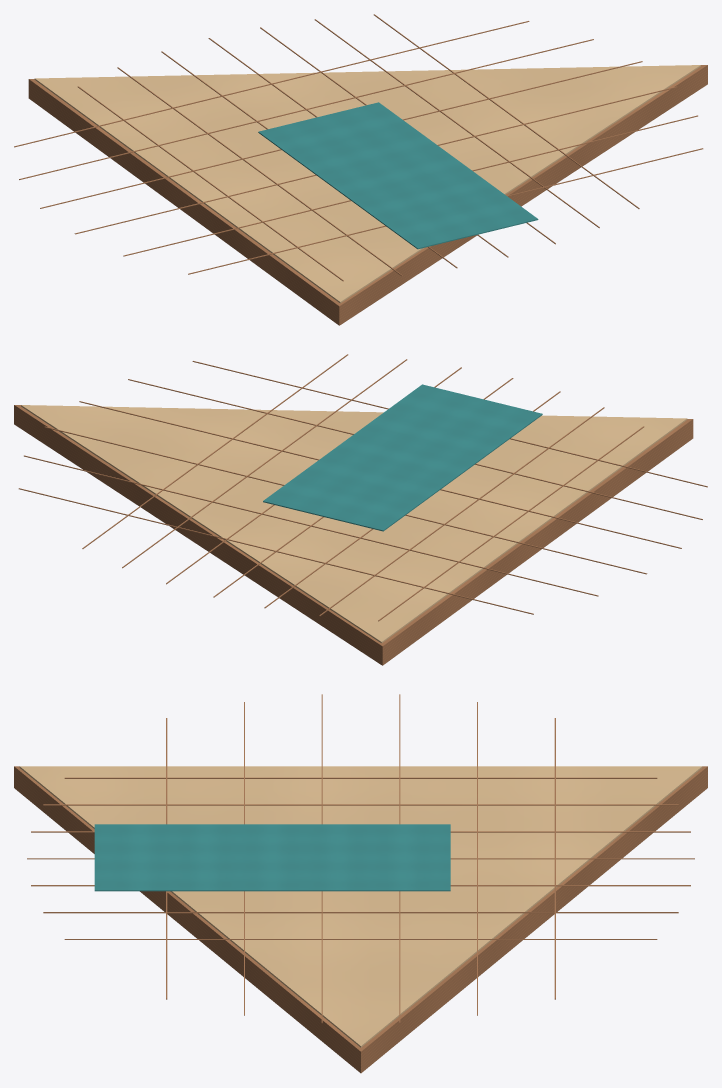
Rendered from atlas100-s096-a07.lod2.glb.
3 renders of one model, top to bottom at view 1: azimuth 30°, elevation 25°; view 2: azimuth 150°, elevation 25°; view 3: azimuth 270°, elevation 25°, orthographic. The views are drawn at different scales.
Visible parts, largest first — view 1: atlas100-s096-a07:part-001, atlas100-s096-a07:part-021, atlas100-s096-a07:part-000, atlas100-s096-a07:part-015, atlas100-s096-a07:part-014, atlas100-s096-a07:part-017, atlas100-s096-a07:part-016, atlas100-s096-a07:part-018, atlas100-s096-a07:part-019, atlas100-s096-a07:part-005, atlas100-s096-a07:part-009, atlas100-s096-a07:part-004 (+1 smaller); view 2: atlas100-s096-a07:part-001, atlas100-s096-a07:part-021, atlas100-s096-a07:part-000, atlas100-s096-a07:part-015, atlas100-s096-a07:part-014, atlas100-s096-a07:part-016, atlas100-s096-a07:part-017, atlas100-s096-a07:part-018, atlas100-s096-a07:part-019, atlas100-s096-a07:part-005, atlas100-s096-a07:part-009, atlas100-s096-a07:part-004 (+1 smaller); view 3: atlas100-s096-a07:part-001, atlas100-s096-a07:part-021, atlas100-s096-a07:part-000, atlas100-s096-a07:part-005, atlas100-s096-a07:part-009, atlas100-s096-a07:part-004, atlas100-s096-a07:part-007, atlas100-s096-a07:part-006, atlas100-s096-a07:part-008, atlas100-s096-a07:part-010.
Boxes of the visible parts, x1,y1,x2,y2 form: atlas100-s096-a07:part-001: (34,65,700,303); atlas100-s096-a07:part-021: (258,102,538,249); atlas100-s096-a07:part-000: (28,65,707,325); atlas100-s096-a07:part-015: (19,39,593,179); atlas100-s096-a07:part-014: (14,21,529,147); atlas100-s096-a07:part-017: (74,86,677,234); atlas100-s096-a07:part-016: (40,61,642,208); atlas100-s096-a07:part-018: (123,115,697,256); atlas100-s096-a07:part-019: (188,148,703,274); atlas100-s096-a07:part-005: (117,67,402,276); atlas100-s096-a07:part-009: (314,19,599,228); atlas100-s096-a07:part-004: (77,86,343,281); atlas100-s096-a07:part-001: (21,405,687,643); atlas100-s096-a07:part-021: (263,384,542,531); atlas100-s096-a07:part-000: (14,405,693,665); atlas100-s096-a07:part-015: (24,455,598,596); atlas100-s096-a07:part-014: (18,488,533,614); atlas100-s096-a07:part-016: (44,426,647,574); atlas100-s096-a07:part-017: (79,401,681,548); atlas100-s096-a07:part-018: (128,379,702,519); atlas100-s096-a07:part-019: (192,361,707,487); atlas100-s096-a07:part-005: (319,407,604,616); atlas100-s096-a07:part-009: (122,359,407,568); atlas100-s096-a07:part-004: (378,426,644,621); atlas100-s096-a07:part-001: (19,766,702,1047); atlas100-s096-a07:part-021: (94,824,450,891); atlas100-s096-a07:part-000: (14,766,707,1073); atlas100-s096-a07:part-005: (43,804,678,805); atlas100-s096-a07:part-009: (43,912,678,913); atlas100-s096-a07:part-004: (64,777,657,778); atlas100-s096-a07:part-007: (27,858,694,859); atlas100-s096-a07:part-006: (31,831,690,832); atlas100-s096-a07:part-008: (31,885,690,886); atlas100-s096-a07:part-010: (64,939,657,939).
Bounding box in the file's own units: 11.87 × 0.404 × 9.82.
3 materials, 3 textured.
